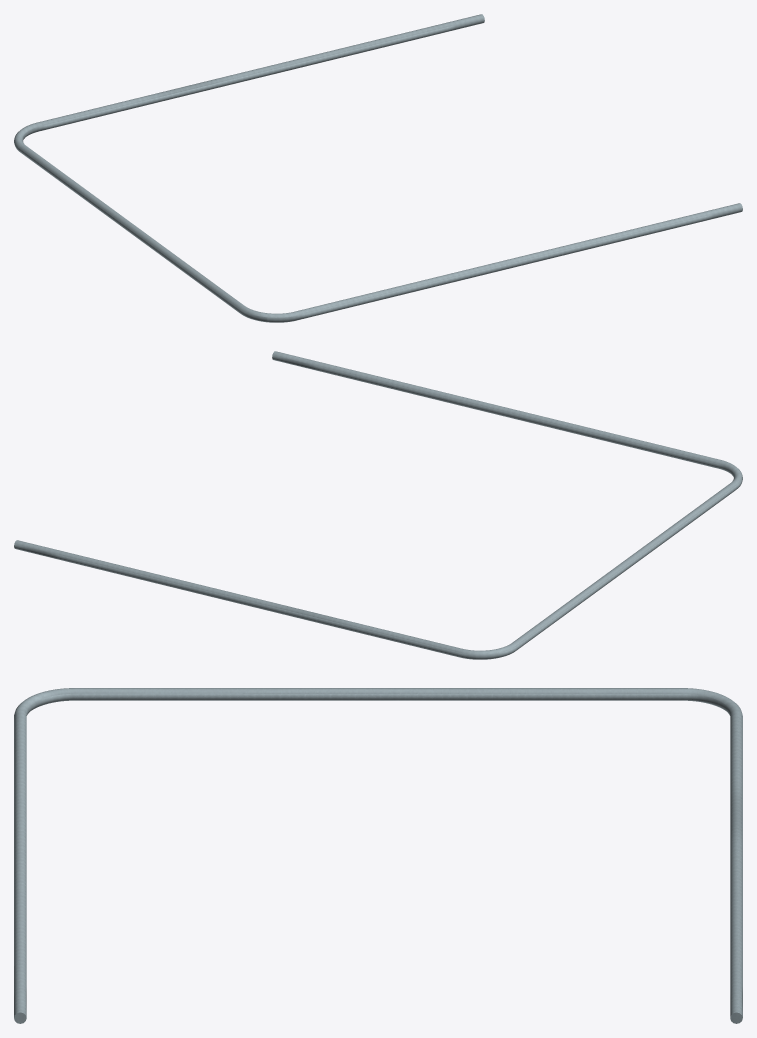
Rendered from 19-rolled-tin-rim-143.3-1.fbx.
The picture shows the model from 3 angles, top to bottom: view 1: azimuth 30°, elevation 25°; view 2: azimuth 150°, elevation 25°; view 3: azimuth 270°, elevation 25°; orthographic projection. The views are drawn at different scales.
Visible parts, largest first — view 1: rolled-tin-rim-143.3-1; view 2: rolled-tin-rim-143.3-1; view 3: rolled-tin-rim-143.3-1.
Part boxes in pixels (x1=…): rolled-tin-rim-143.3-1: x1=14, y1=14, x2=742, y2=322; rolled-tin-rim-143.3-1: x1=14, y1=351, x2=742, y2=659; rolled-tin-rim-143.3-1: x1=14, y1=688, x2=742, y2=1023.
Size of the model in its own units: 8520 by 140 by 8039.
1 material, 1 textured.
